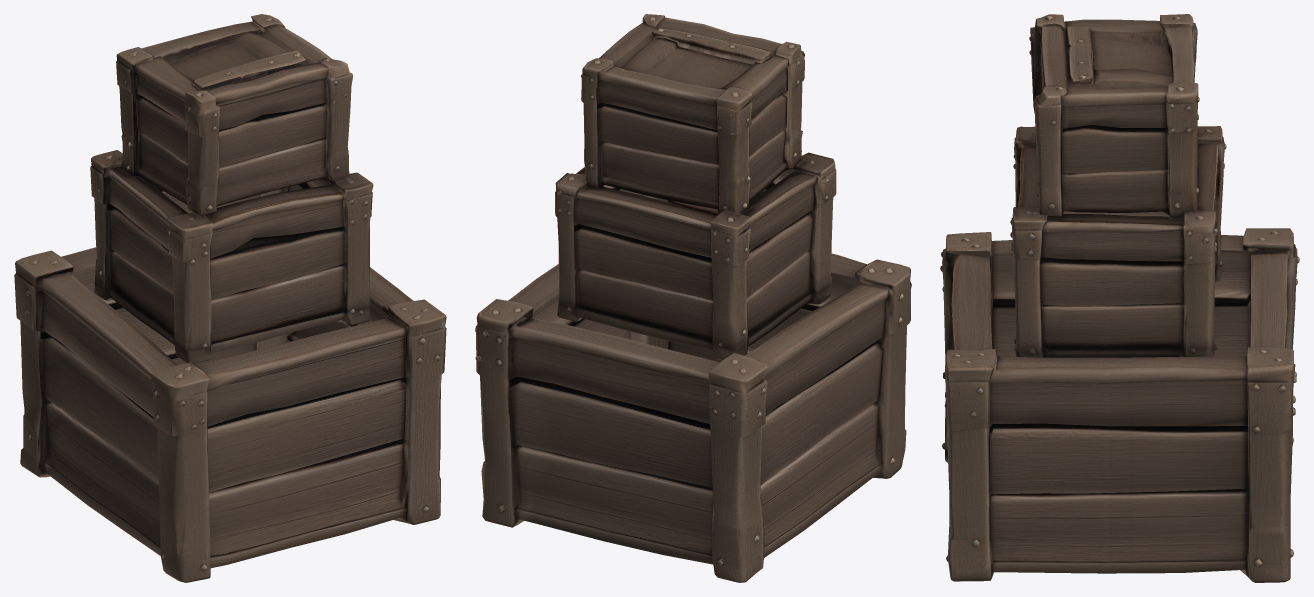
The model's file is pila_casse.fbx.
3 renders of one model, left to right at view 1: azimuth 30°, elevation 25°; view 2: azimuth 150°, elevation 25°; view 3: azimuth 270°, elevation 25°, orthographic. The views are drawn at different scales.
Parts seen in each view (by area): view 1: tripo_node_74236e6f; view 2: tripo_node_74236e6f; view 3: tripo_node_74236e6f.
Boxes of the visible parts, left/top/right/bottom form: tripo_node_74236e6f: left=14, top=14, right=446, bottom=582; tripo_node_74236e6f: left=475, top=14, right=911, bottom=582; tripo_node_74236e6f: left=940, top=14, right=1299, bottom=582.
Bounding box in the file's own units: 0.6792 × 0.9995 × 0.6987.
Materials: 1 (1 with a texture image).
